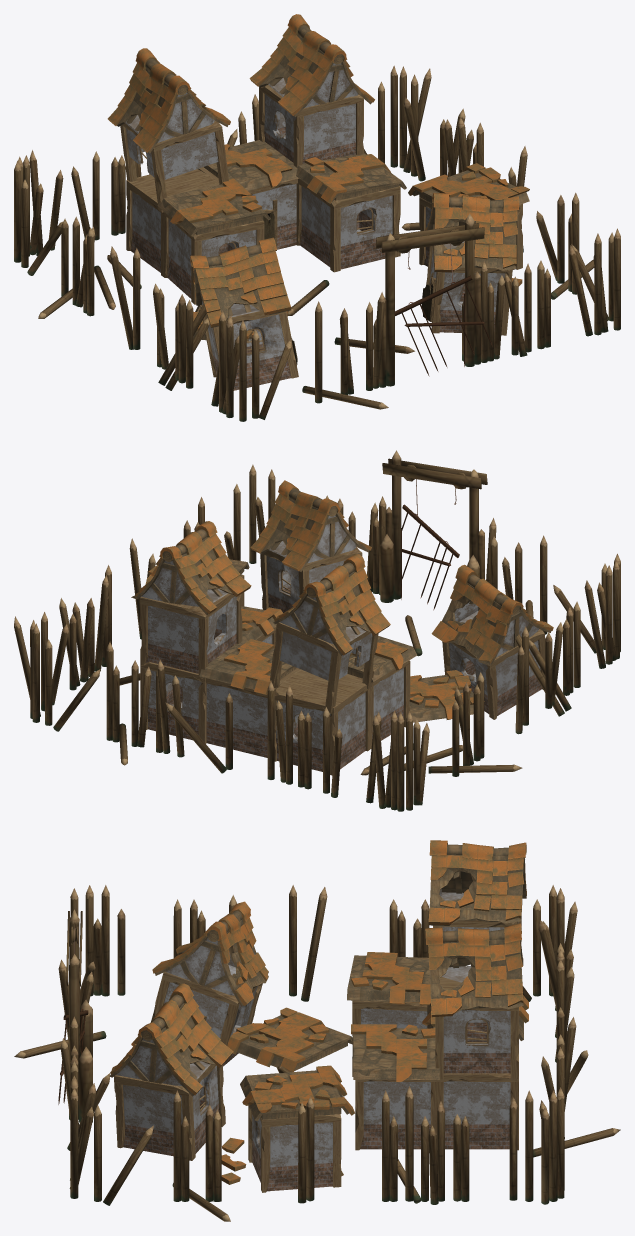
File: sb_obj_outdoor010_Landmark_RuinsVillageother.fbx
3 renders of one model, top to bottom at view 1: azimuth 30°, elevation 25°; view 2: azimuth 150°, elevation 25°; view 3: azimuth 270°, elevation 25°, orthographic. The views are drawn at different scales.
Visible parts, largest first — view 1: sb_obj_outdoor010_Landmark_RuinsVillageother; view 2: sb_obj_outdoor010_Landmark_RuinsVillageother; view 3: sb_obj_outdoor010_Landmark_RuinsVillageother.
Part boxes in pixels (left/top/right/bottom): sb_obj_outdoor010_Landmark_RuinsVillageother: left=14, top=14, right=620, bottom=421; sb_obj_outdoor010_Landmark_RuinsVillageother: left=14, top=450, right=620, bottom=811; sb_obj_outdoor010_Landmark_RuinsVillageother: left=14, top=840, right=620, bottom=1221.
Bounding box in the file's own units: 2.43 × 1.06 × 2.43.
